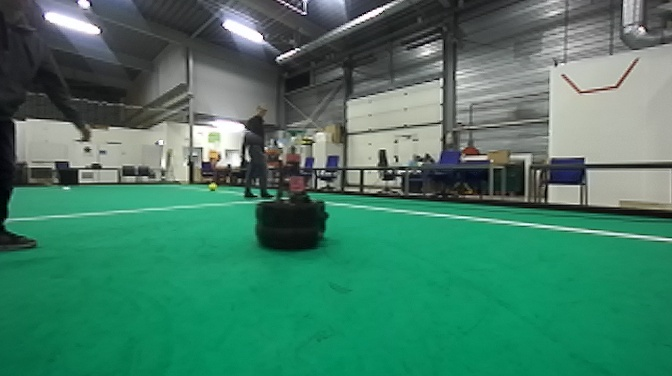ball: (207, 181, 221, 193)
human: (240, 104, 270, 203)
robot: (252, 125, 332, 250)
